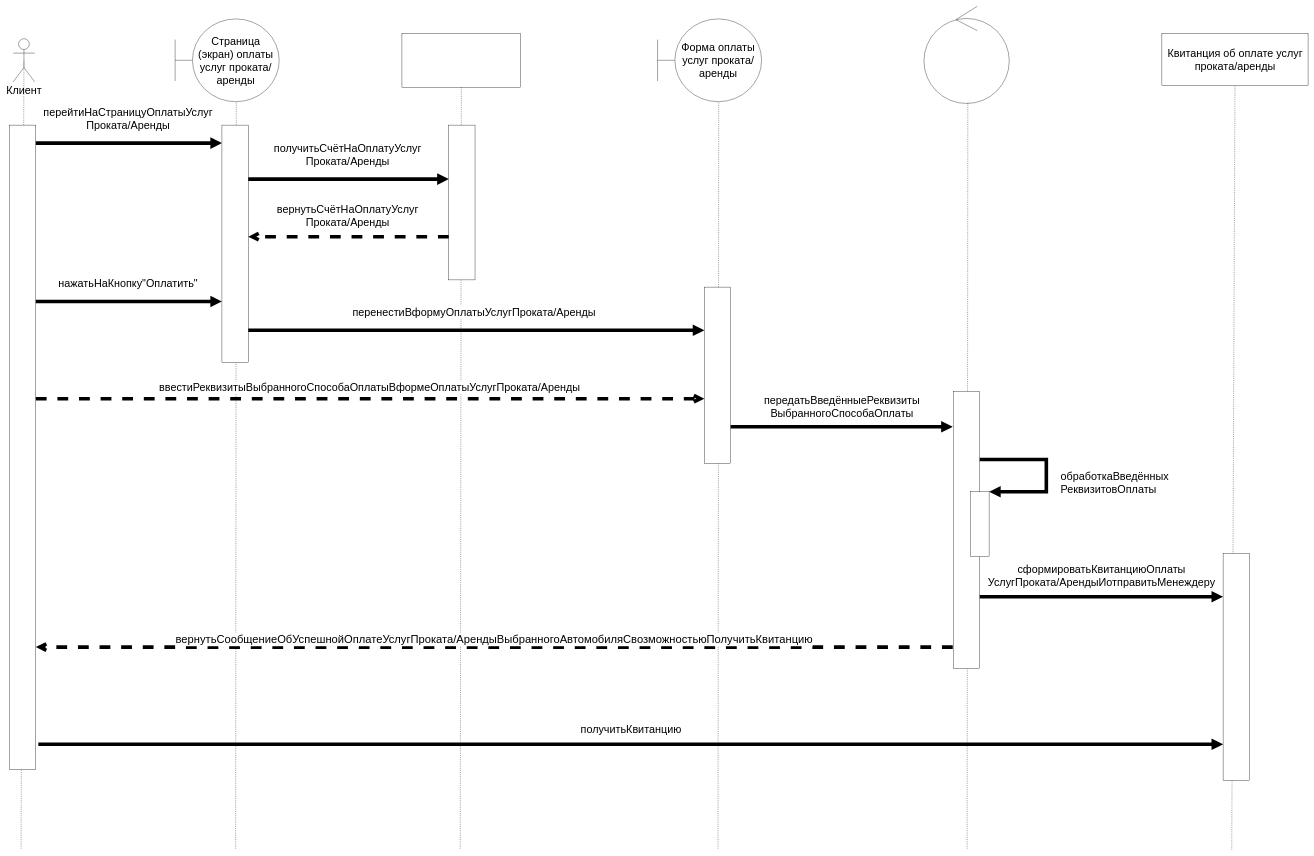
The diagram is 1314 pixels wide and 856 high, and some of its shapes have lost their labels. Here are the shapes that lost their labels. From the top down, the box of each, then its label:
(402, 33, 521, 87): Счёт на оплату услуг проката/аренды
(924, 6, 1009, 104): Обработчик формы оплаты услуг проката/аренды
